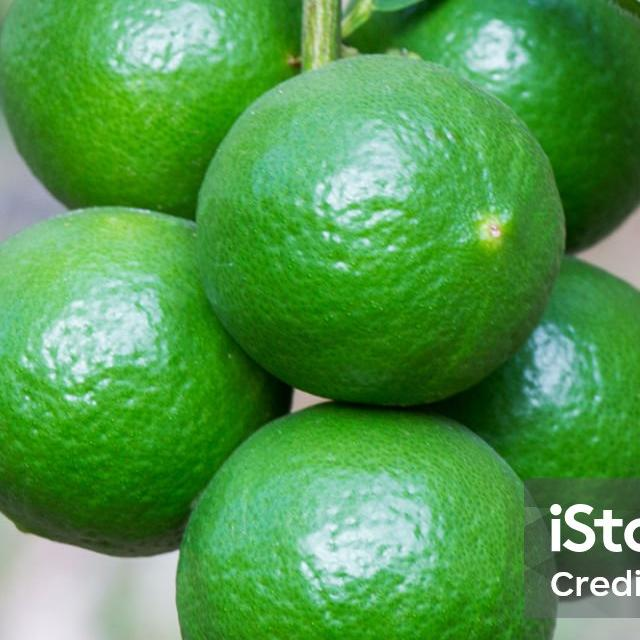lime: (187, 56, 572, 414), (173, 406, 559, 640)
